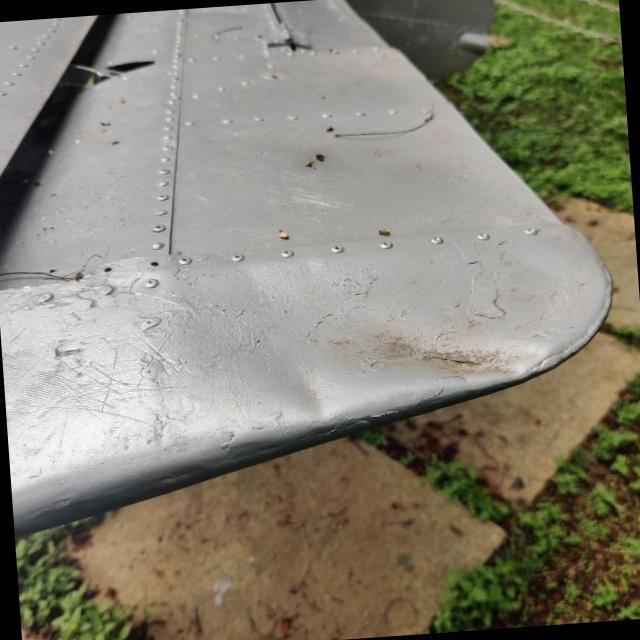Dent: (244, 332, 370, 462)
